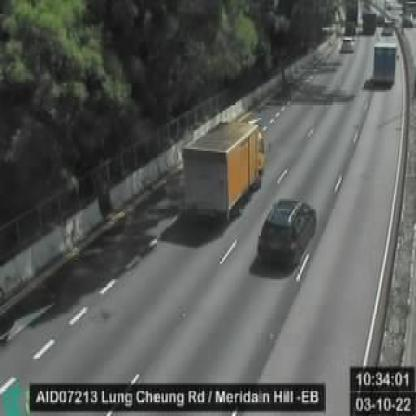Car: (254, 201, 314, 269)
Truck: (182, 111, 264, 220), (372, 40, 395, 85)
